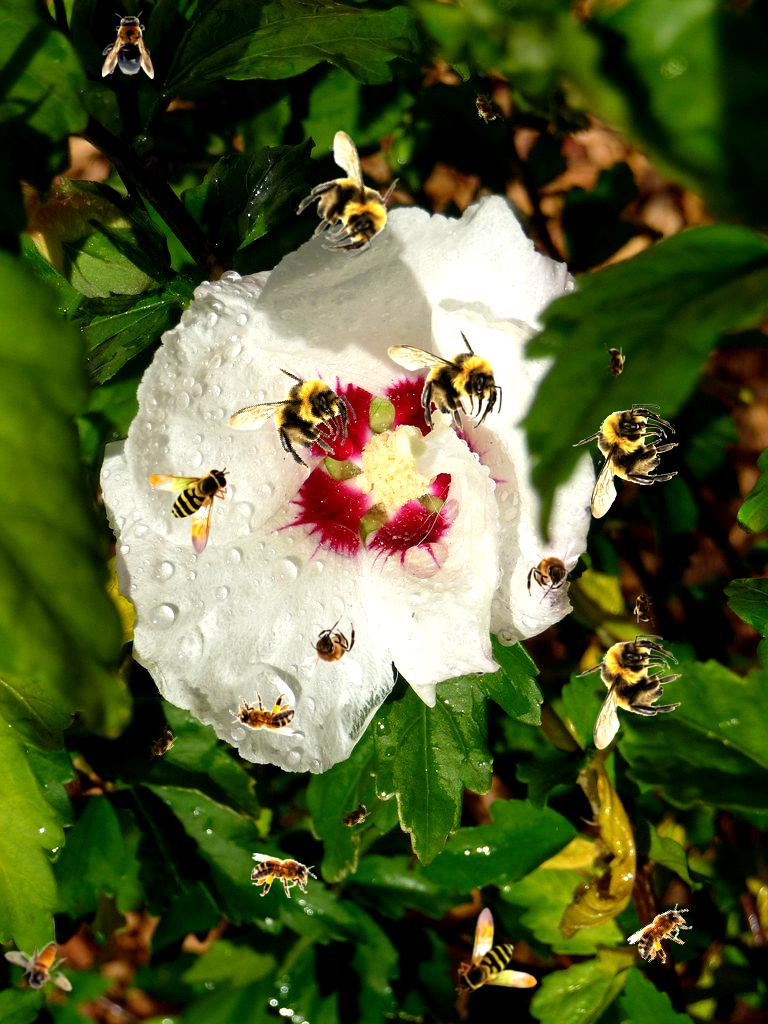Bee: (269, 116, 424, 273), (214, 342, 369, 495), (575, 635, 682, 750), (572, 404, 679, 519), (387, 326, 502, 433), (2, 924, 86, 1011), (148, 467, 230, 555), (455, 907, 537, 995), (625, 892, 703, 973), (520, 534, 581, 604), (301, 615, 362, 685), (102, 11, 154, 79), (229, 691, 295, 736), (251, 853, 317, 898), (140, 721, 184, 767), (331, 795, 377, 837), (467, 84, 505, 130), (633, 587, 655, 627), (604, 343, 626, 383)
